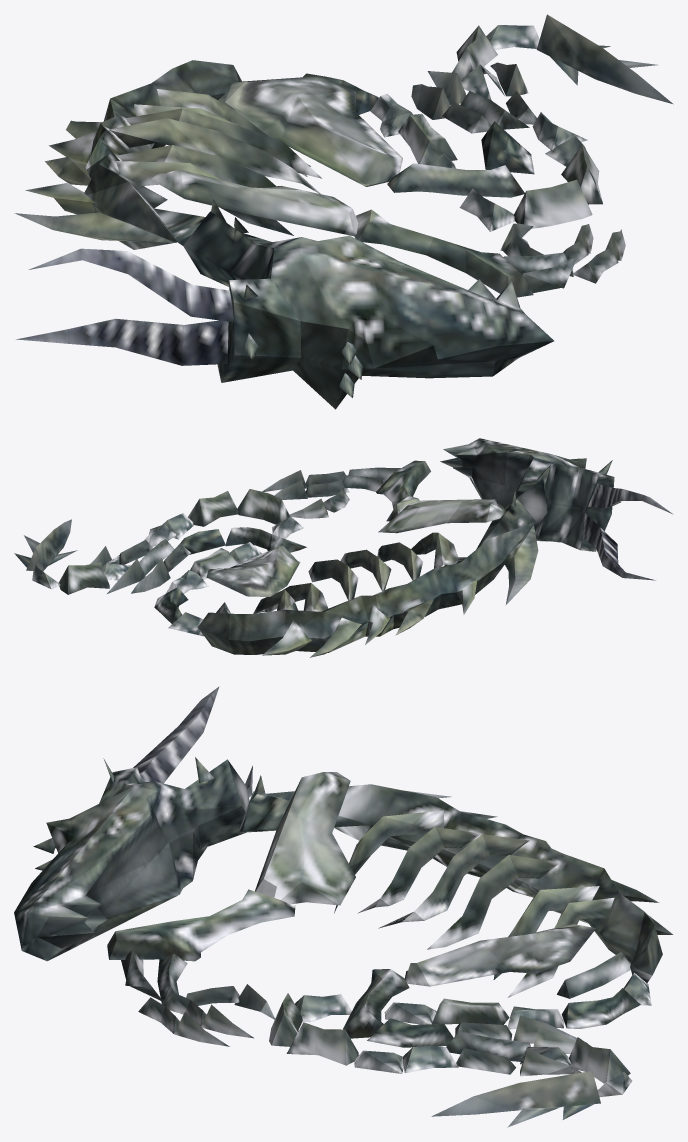
File: 3-1_haigu1.FBX
3 renders of one model, top to bottom at view 1: azimuth 30°, elevation 25°; view 2: azimuth 150°, elevation 25°; view 3: azimuth 270°, elevation 25°, orthographic. The views are drawn at different scales.
Parts seen in each view (by area): view 1: 3-1_haigu1; view 2: 3-1_haigu1; view 3: 3-1_haigu1.
Boxes of the visible parts, box(x1,y1,x2,y2) form: 3-1_haigu1: box(14, 14, 673, 409); 3-1_haigu1: box(14, 438, 673, 657); 3-1_haigu1: box(14, 687, 673, 1127).
Size of the model in its own units: 976 by 183 by 785.
